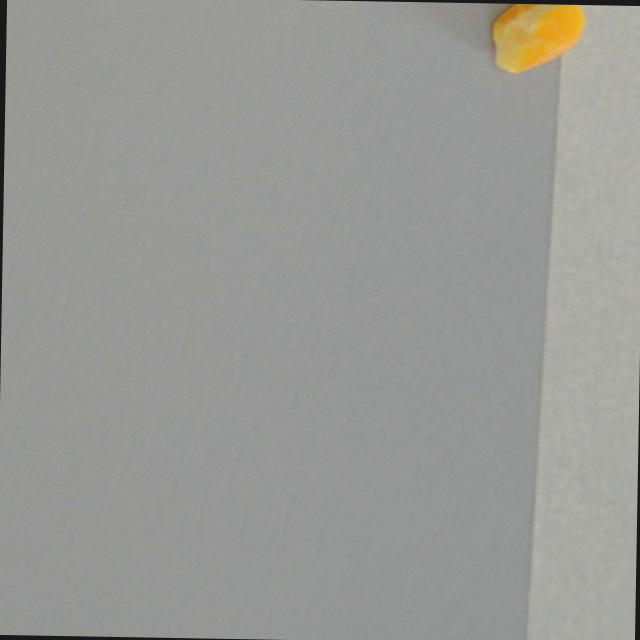pelicula: (486, 3, 585, 76)
